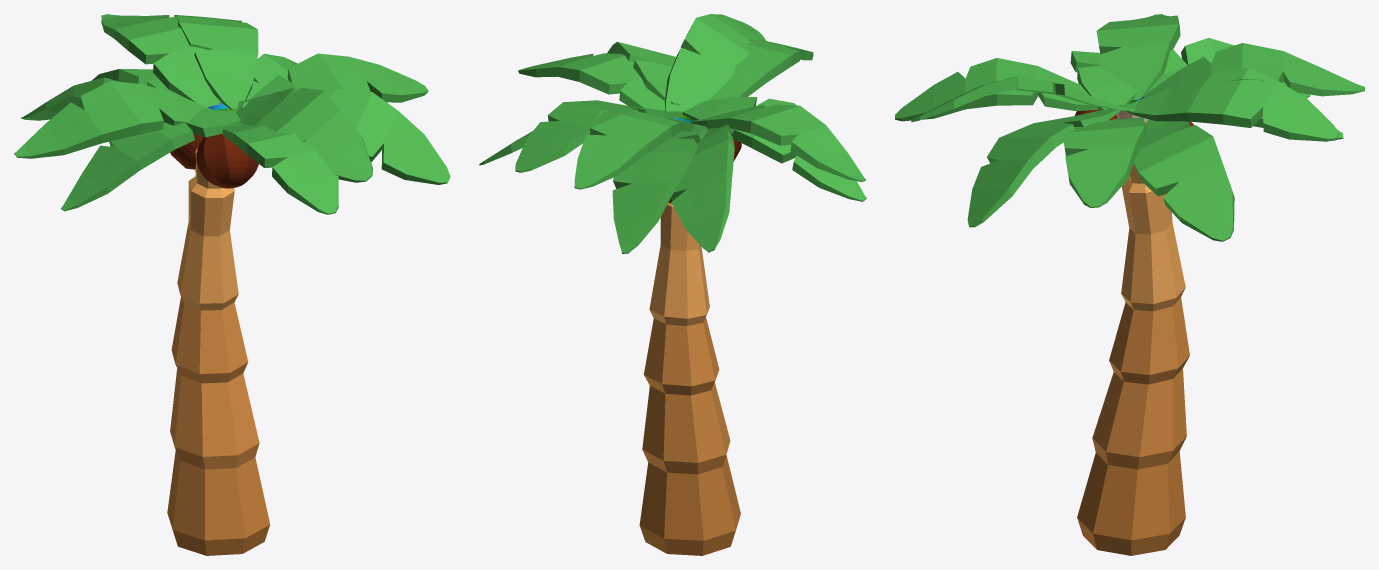
Rendered from palmera.fbx.
3 renders of one model, left to right at view 1: azimuth 30°, elevation 25°; view 2: azimuth 150°, elevation 25°; view 3: azimuth 270°, elevation 25°, orthographic. The views are drawn at different scales.
Parts seen in each view (by area): view 1: Hojas, Tronco, Cocos; view 2: Hojas, Tronco; view 3: Hojas, Tronco.
Boxes of the visible parts, x1=… form: Hojas: x1=14, y1=14, x2=450, y2=214; Tronco: x1=167, y1=102, x2=270, y2=555; Cocos: x1=170, y1=133, x2=258, y2=188; Hojas: x1=479, y1=14, x2=866, y2=253; Tronco: x1=639, y1=114, x2=740, y2=555; Hojas: x1=895, y1=14, x2=1364, y2=241; Tronco: x1=1077, y1=96, x2=1189, y2=555.
Bounding box in the file's own units: 928 × 1106 × 973.
3 materials, 3 textured.
